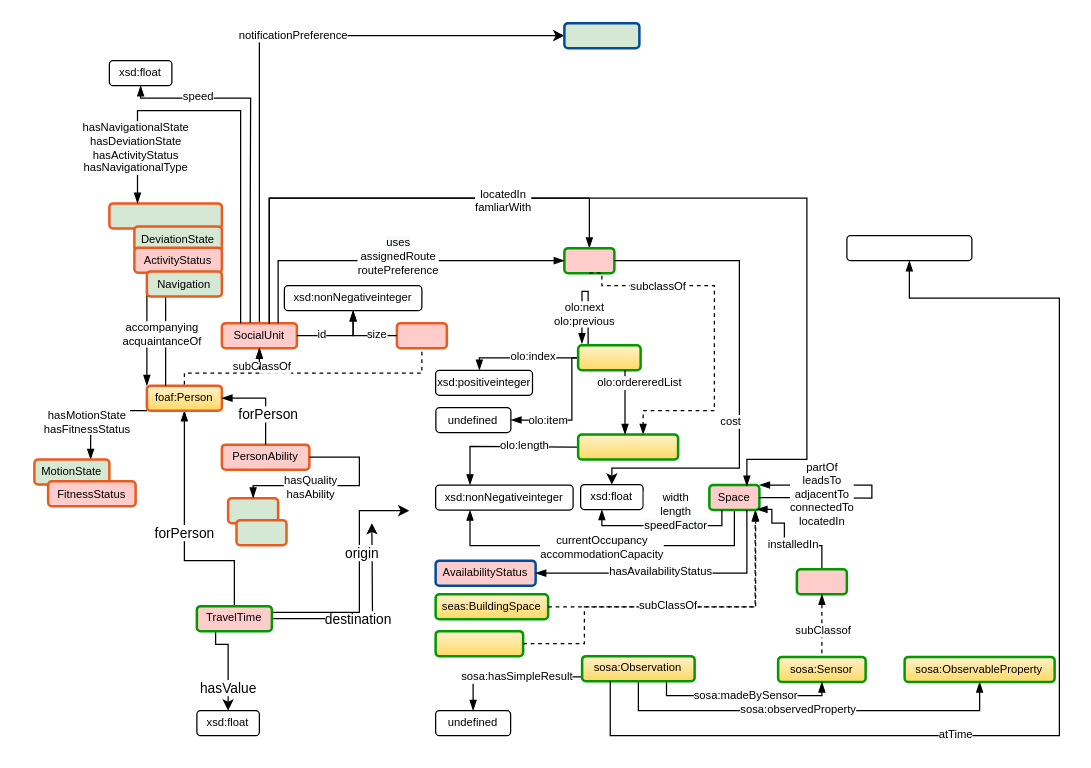
Image size: 1091x768. Some labels were removed from this diagram. The shapes that lost their labels are listed below. From the top down, each one's centre as x and y in pixels, then its label:
point 601,35: Description
point 165,215: NavigationalState
point 588,260: Route
point 909,247: xsd:dateTimeStamp
point 421,335: Group
point 608,357: olo:Slot
point 627,446: olo:OrderedList
point 252,510: Quality
point 261,532: Ability
point 821,581: Device
point 479,643: seas:Building
